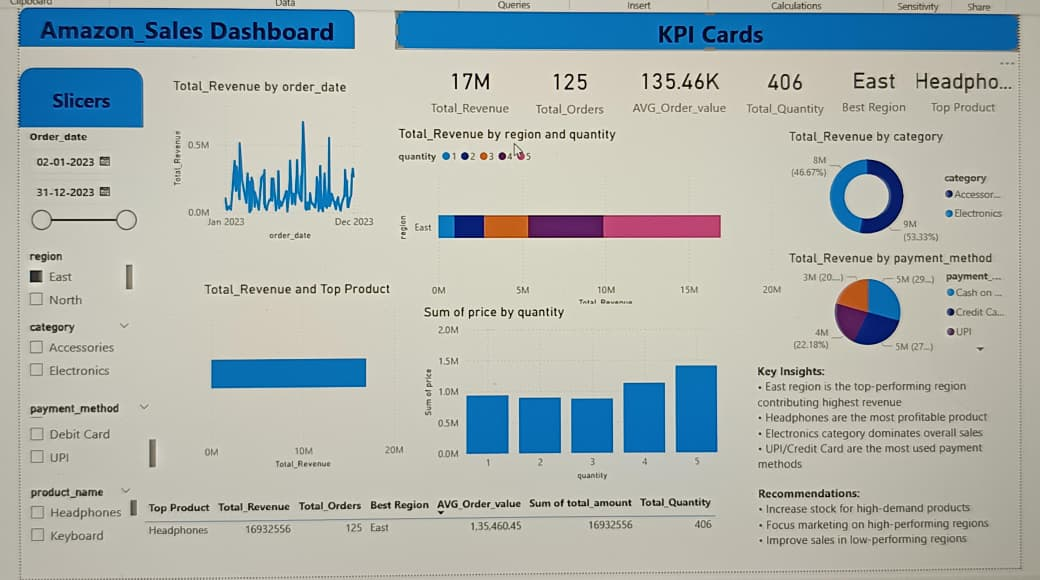

This screenshot's page, from the dashboard's own definition file:
{"tool":"powerbi","page":{"name":"Page 1","canvas":[1280,720],"ordinal":0},"visuals":[{"type":"card","fields":{"Values":["public amazon_sales.Total_Revenue"]},"box":[505,45.3,122.1,107],"z":0},{"type":"card","fields":{"Values":["public amazon_sales.Total_Quantity"]},"box":[912.2,42.8,122.3,111.3],"z":1},{"type":"card","fields":{"Values":["public amazon_sales.Orders"]},"box":[627.1,42.5,134.5,112.5],"z":2},{"type":"card","fields":{"Values":["public amazon_sales.Top Product"]},"box":[1130.7,45.3,149.6,102.9],"z":3},{"type":"card","fields":{"Values":["public amazon_sales.Best Region"]},"box":[1033.3,36.7,111.3,119.8],"z":4},{"type":"card","fields":{"Values":["public amazon_sales.AVG_Order_value"]},"box":[761.6,49.4,149.6,97.4],"z":5},{"type":"slicer","fields":{"Values":["public amazon_sales.order_date"]},"box":[0,149.6,155.1,148.2],"z":6},{"type":"shape","box":[0,0,419.9,49.4],"z":8},{"type":"shape","box":[0,75.5,155.1,75.5],"z":9},{"type":"shape","box":[472,0,808.2,49.4],"z":10},{"type":"slicer","fields":{"Values":["public amazon_sales.region"]},"box":[0,299.1,145.5,89.2],"z":11},{"type":"slicer","fields":{"Values":["public amazon_sales.category"]},"box":[0,388.3,149.6,102.9],"z":12},{"type":"barChart","fields":{"Category":["public amazon_sales.region"],"Y":["public amazon_sales.Total_Revenue"],"Series":["public amazon_sales.quantity"]},"box":[469.3,146.8,503.6,238.8],"z":13},{"type":"donutChart","fields":{"Category":["public amazon_sales.category"],"Y":["public amazon_sales.Total_Revenue"]},"box":[972.9,149.6,299.1,157.8],"z":14},{"type":"slicer","fields":{"Values":["public amazon_sales.payment_method"]},"box":[0,491.3,174.3,93.3],"z":15},{"type":"slicer","fields":{"Values":["public amazon_sales.product_name"]},"box":[0,596.9,150.9,82.3],"z":16},{"type":"pieChart","fields":{"Category":["public amazon_sales.payment_method"],"Y":["public amazon_sales.Total_Revenue"]},"box":[972.9,307.4,301.9,141.3],"z":17},{"type":"lineChart","fields":{"Category":["public amazon_sales.order_date"],"Y":["public amazon_sales.Total_Revenue"]},"box":[186.6,87.8,260.7,209.9],"z":18},{"type":"barChart","fields":{"Y":["public amazon_sales.Total_Revenue"]},"box":[225,344.4,260.7,244.3],"z":19},{"type":"clusteredColumnChart","fields":{"Category":["public amazon_sales.quantity"],"Y":["Sum(public amazon_sales.price)"]},"box":[500.9,376,388.3,231.9],"z":20},{"type":"tableEx","fields":{"Values":["public amazon_sales.Top Product","public amazon_sales.Total_Revenue","public amazon_sales.Total_Orders","public amazon_sales.Best Region","public amazon_sales.AVG_Order_value","Sum(public amazon_sales.total_amount)","public amazon_sales.Total_Quantity"]},"box":[149.6,614.8,742.4,76.8],"z":21},{"type":"textbox","box":[931.7,447.3,343.1,273.1],"z":22}]}

Visuals, with their boxes on the page's 1280x720 design canvas (x1, y1, x2, y2). These are canvas units, not pixel positions in the 1040x580 screenshot, which may show the page scaled, cropped or inside an application window:
card - public amazon_sales.Total_Revenue: {"x1": 505, "y1": 45, "x2": 627, "y2": 152}
card - public amazon_sales.Total_Quantity: {"x1": 912, "y1": 43, "x2": 1034, "y2": 154}
card - public amazon_sales.Orders: {"x1": 627, "y1": 42, "x2": 762, "y2": 155}
card - public amazon_sales.Top Product: {"x1": 1131, "y1": 45, "x2": 1280, "y2": 148}
card - public amazon_sales.Best Region: {"x1": 1033, "y1": 37, "x2": 1145, "y2": 156}
card - public amazon_sales.AVG_Order_value: {"x1": 762, "y1": 49, "x2": 911, "y2": 147}
slicer - public amazon_sales.order_date: {"x1": 0, "y1": 150, "x2": 155, "y2": 298}
shape: {"x1": 0, "y1": 0, "x2": 420, "y2": 49}
shape: {"x1": 0, "y1": 76, "x2": 155, "y2": 151}
shape: {"x1": 472, "y1": 0, "x2": 1280, "y2": 49}
slicer - public amazon_sales.region: {"x1": 0, "y1": 299, "x2": 146, "y2": 388}
slicer - public amazon_sales.category: {"x1": 0, "y1": 388, "x2": 150, "y2": 491}
barChart - public amazon_sales.region x public amazon_sales.Total_Revenue: {"x1": 469, "y1": 147, "x2": 973, "y2": 386}
donutChart - public amazon_sales.category x public amazon_sales.Total_Revenue: {"x1": 973, "y1": 150, "x2": 1272, "y2": 307}
slicer - public amazon_sales.payment_method: {"x1": 0, "y1": 491, "x2": 174, "y2": 585}
slicer - public amazon_sales.product_name: {"x1": 0, "y1": 597, "x2": 151, "y2": 679}
pieChart - public amazon_sales.payment_method x public amazon_sales.Total_Revenue: {"x1": 973, "y1": 307, "x2": 1275, "y2": 449}
lineChart - public amazon_sales.order_date x public amazon_sales.Total_Revenue: {"x1": 187, "y1": 88, "x2": 447, "y2": 298}
barChart - public amazon_sales.Total_Revenue: {"x1": 225, "y1": 344, "x2": 486, "y2": 589}
clusteredColumnChart - public amazon_sales.quantity x Sum(public amazon_sales.price): {"x1": 501, "y1": 376, "x2": 889, "y2": 608}
tableEx - public amazon_sales.Top Product x public amazon_sales.Total_Revenue: {"x1": 150, "y1": 615, "x2": 892, "y2": 692}
textbox: {"x1": 932, "y1": 447, "x2": 1275, "y2": 720}
